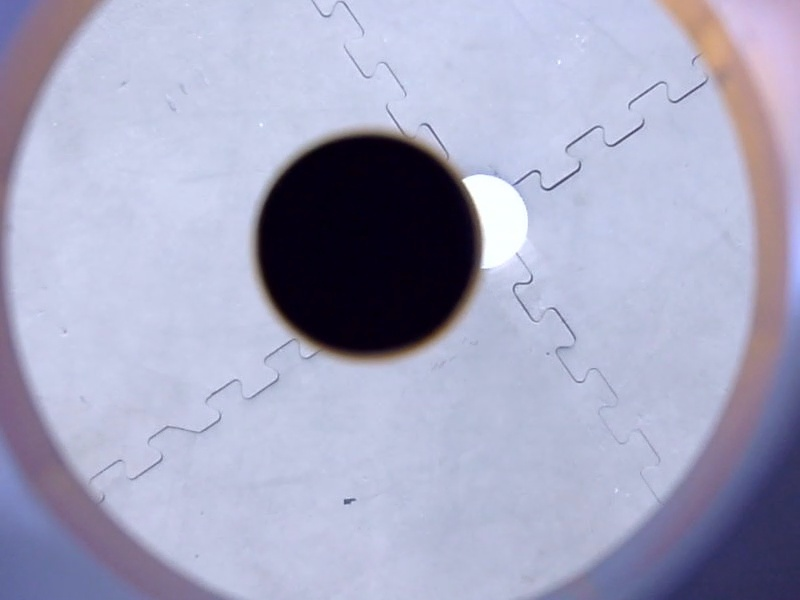tip: (236, 121, 500, 376)
